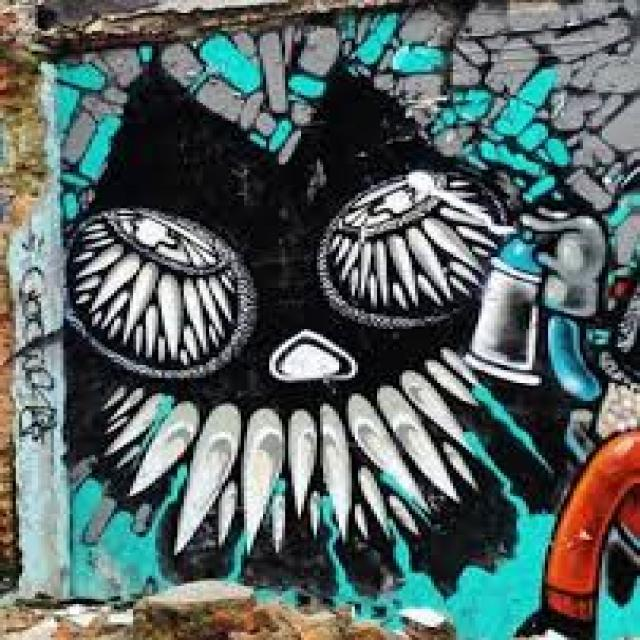-: (54, 0, 640, 640), (15, 230, 56, 444)
